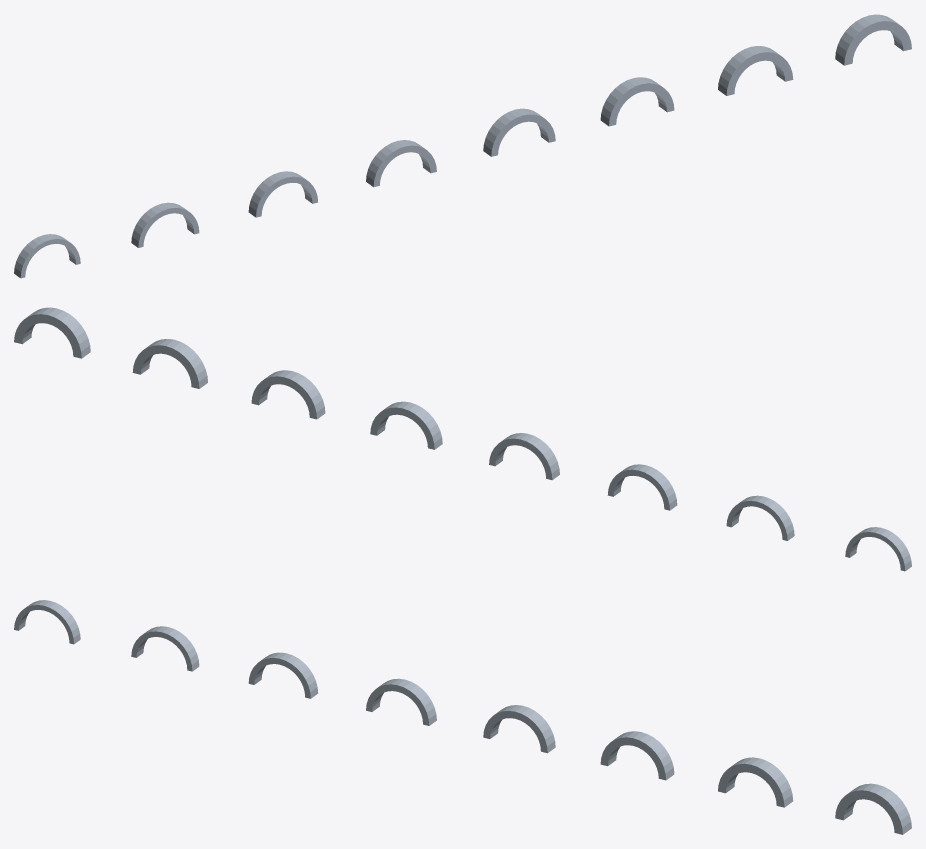
Rendered from arcos-muralhas.glb.
3 renders of one model, top to bottom at view 1: azimuth 30°, elevation 25°; view 2: azimuth 150°, elevation 25°; view 3: azimuth 330°, elevation 25°, orthographic.
Parts seen in each view (by area): view 1: Arco_10, Arco_9, Arco_8, Arco_7, Arco_6, Arco_5, Arco_4, Arco_3; view 2: Arco_10, Arco_9, Arco_8, Arco_7, Arco_6, Arco_5, Arco_4, Arco_3; view 3: Arco_10, Arco_9, Arco_8, Arco_7, Arco_6, Arco_5, Arco_4, Arco_3.
Part boxes in pixels (box(x1,y1,x2,y2)): Arco_10: box(835, 14, 911, 65); Arco_9: box(718, 46, 793, 95); Arco_8: box(600, 77, 674, 126); Arco_7: box(483, 108, 555, 156); Arco_6: box(366, 140, 436, 187); Arco_5: box(248, 171, 318, 217); Arco_4: box(131, 202, 199, 247); Arco_3: box(14, 234, 80, 278); Arco_10: box(14, 307, 90, 358); Arco_9: box(132, 339, 207, 388); Arco_8: box(251, 370, 325, 419); Arco_7: box(370, 401, 442, 449); Arco_6: box(489, 433, 559, 480); Arco_5: box(607, 464, 677, 510); Arco_4: box(726, 495, 794, 540); Arco_3: box(845, 527, 911, 571); Arco_10: box(835, 783, 911, 834); Arco_9: box(718, 757, 793, 807); Arco_8: box(600, 731, 674, 780); Arco_7: box(483, 705, 555, 753); Arco_6: box(366, 678, 436, 725); Arco_5: box(248, 652, 318, 698); Arco_4: box(131, 626, 199, 671); Arco_3: box(14, 600, 80, 644).
Bounding box in the file's own units: 67.87 × 3.53 × 1.2.
